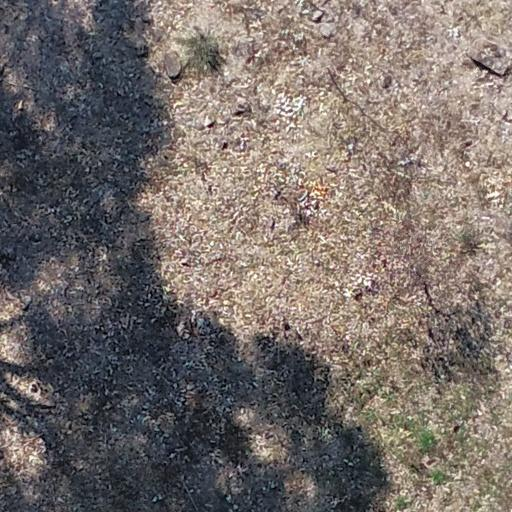stone: (161, 50, 184, 78), (231, 92, 252, 116), (378, 72, 394, 89), (135, 42, 149, 59), (319, 26, 333, 40), (20, 295, 32, 311), (202, 117, 218, 129), (312, 10, 323, 22), (452, 422, 462, 434), (410, 462, 420, 474), (462, 139, 473, 149), (220, 141, 228, 151)
